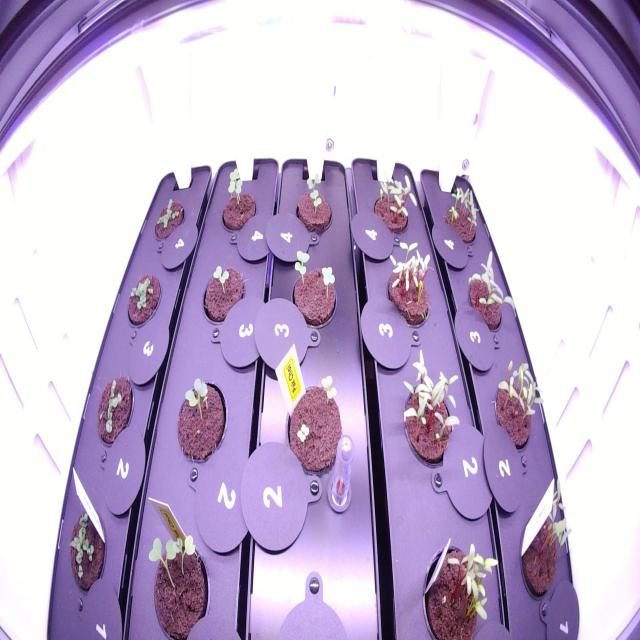germination: (272, 368, 354, 486), (394, 344, 467, 471), (141, 519, 216, 640), (419, 534, 501, 634), (519, 476, 574, 602), (490, 353, 549, 458), (173, 368, 230, 474), (274, 246, 341, 332), (381, 234, 439, 332), (465, 244, 519, 333), (364, 167, 424, 238), (64, 506, 110, 596), (198, 255, 248, 336), (215, 163, 263, 245), (287, 167, 339, 240), (94, 364, 136, 450), (439, 180, 482, 256), (124, 267, 164, 334), (152, 191, 186, 245)
